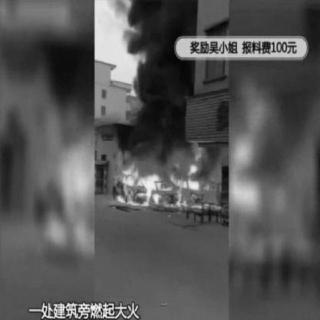Smoke: (138, 3, 182, 141)
